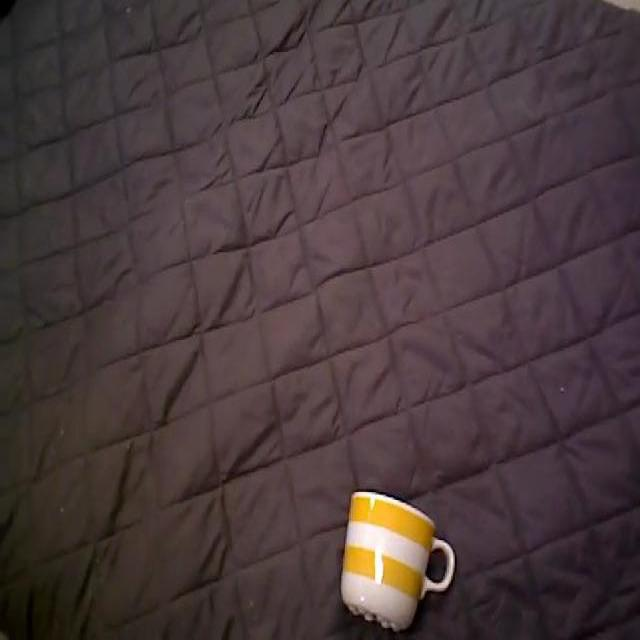cup: (338, 488, 455, 637)
